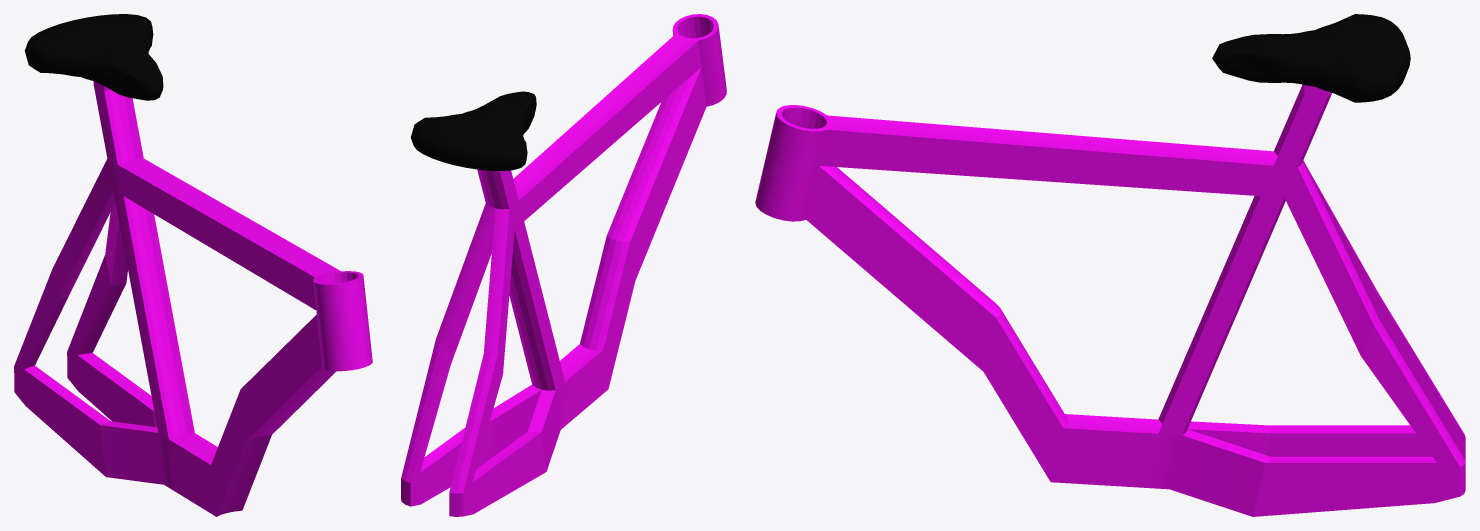
The model's file is frame_velo.fbx.
3 renders of one model, left to right at view 1: azimuth 30°, elevation 25°; view 2: azimuth 150°, elevation 25°; view 3: azimuth 270°, elevation 25°, orthographic. The views are drawn at different scales.
Visible parts, largest first — view 1: frame; view 2: frame; view 3: frame.
Boxes of the visible parts, left/top/right/bottom form: frame: left=14, top=14, right=372, bottom=516; frame: left=401, top=14, right=726, bottom=516; frame: left=755, top=14, right=1465, bottom=516.
Size of the model in its own units: 0.9068 by 2.89 by 4.08.
